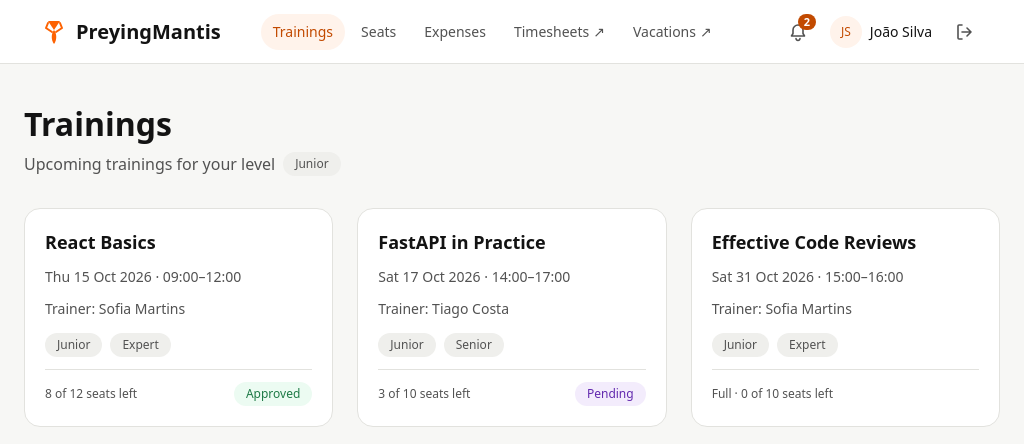
Test: notification bell › lists the latest notifications, moves focus into the list, and Escape closes it
Click the button named "Notifications, 2 unread".
click(798, 32)  # box [778,12,818,52]
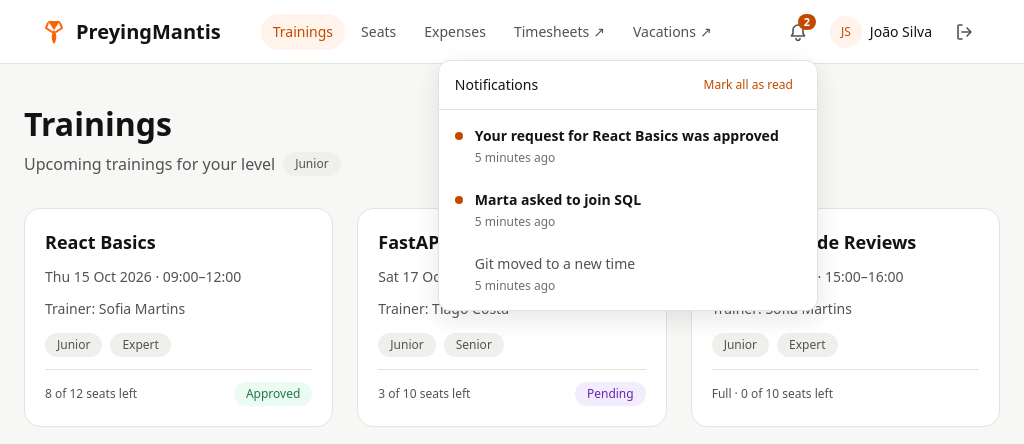
Expected: the button with aria-label "Your request for React Basics was approved (unread)" is shown, [439,114,817,178]
Press Escape
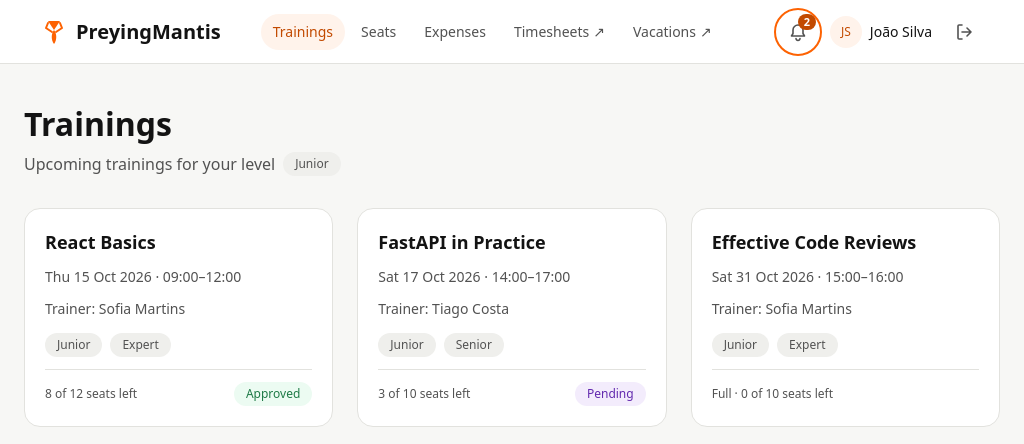
Expected: the heading "Notifications" is gone
